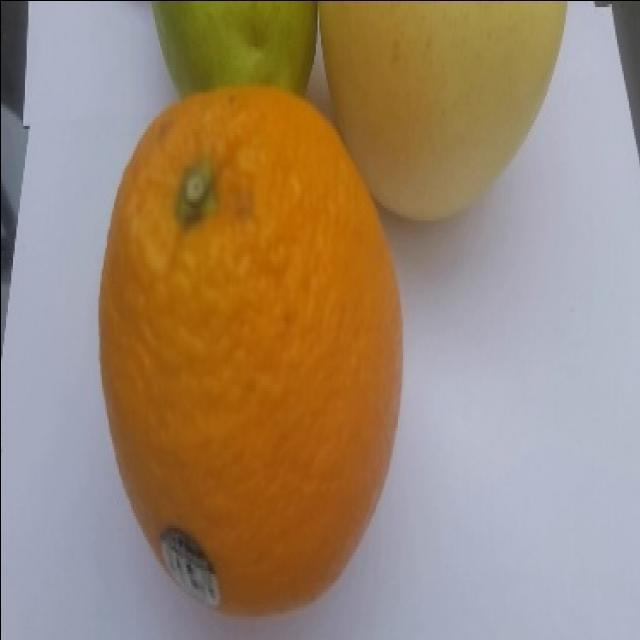Orange: (97, 84, 404, 617)
